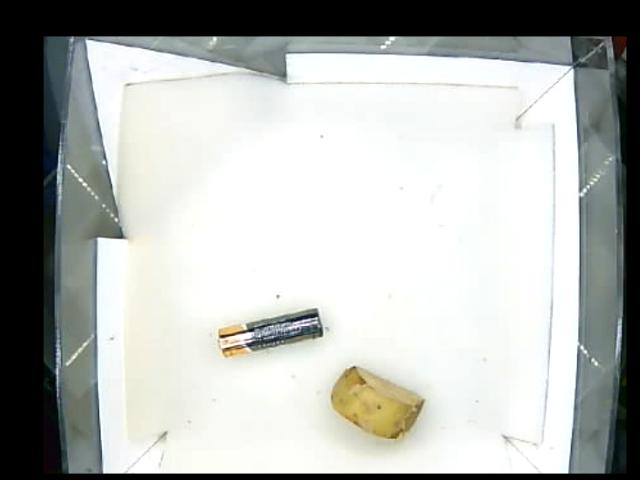Battery: (212, 308, 324, 358)
Potato: (328, 366, 425, 440)
